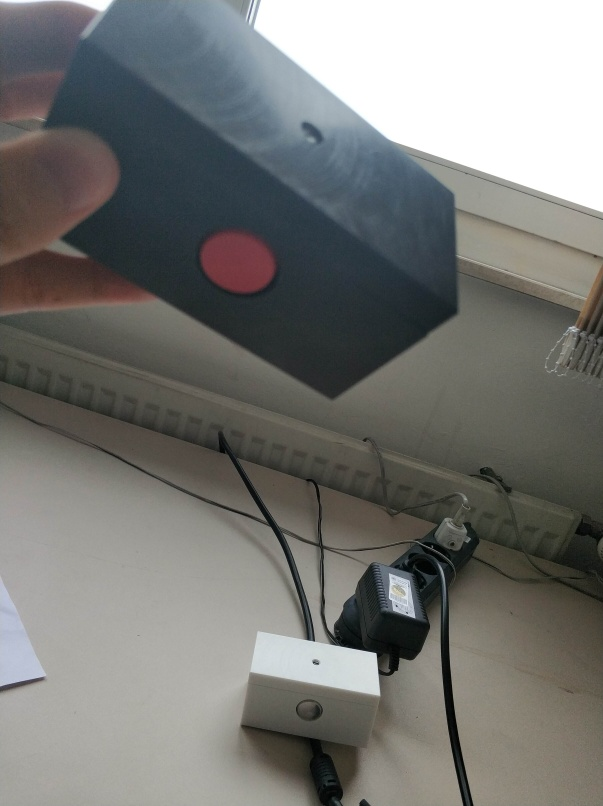black+black+red: (39, 1, 462, 406)
